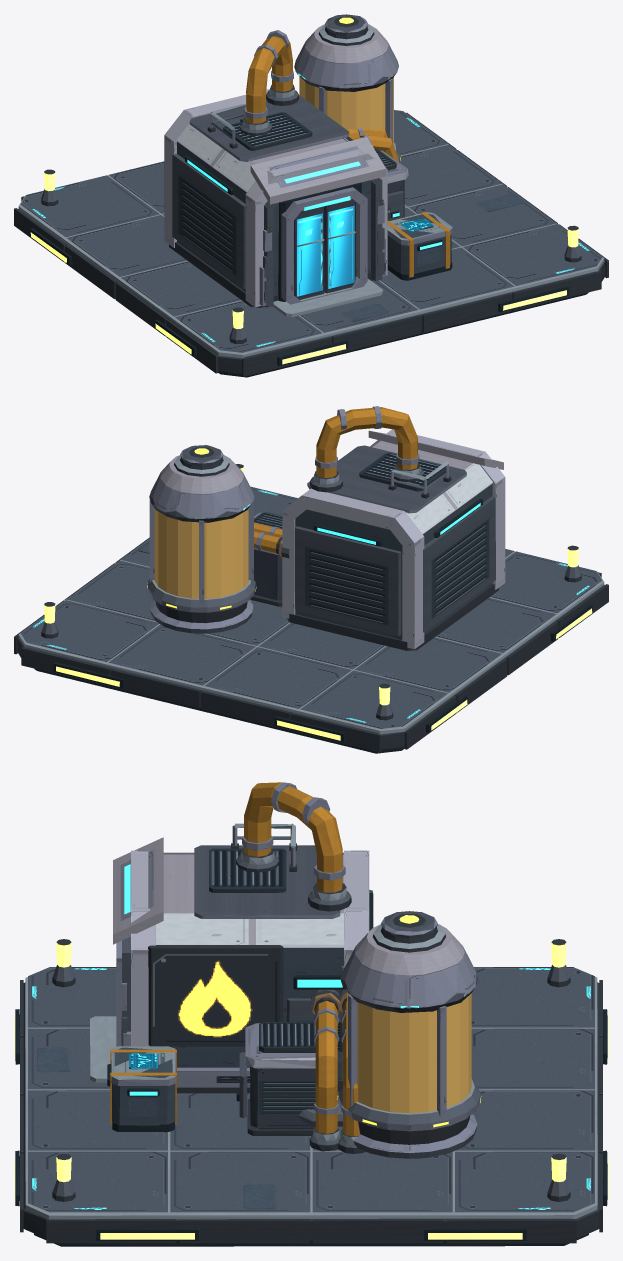
The model's file is RF01_RefineriaBasica_Distancia.fbx.
3 renders of one model, top to bottom at view 1: azimuth 30°, elevation 25°; view 2: azimuth 150°, elevation 25°; view 3: azimuth 270°, elevation 25°, orthographic. The views are drawn at different scales.
Visible parts, largest first — view 1: EstructuraDistante_1, CristalYCombustibleDistantes_1; view 2: EstructuraDistante_1, CristalYCombustibleDistantes_1; view 3: EstructuraDistante_1, CristalYCombustibleDistantes_1.
Part boxes in pixels (x1,y1,x2,y2): EstructuraDistante_1: (14,14,608,377); CristalYCombustibleDistantes_1: (299,76,393,145); EstructuraDistante_1: (14,406,608,753); CristalYCombustibleDistantes_1: (154,508,248,598); EstructuraDistante_1: (14,782,608,1246); CristalYCombustibleDistantes_1: (347,992,471,1113).
Size of the model in its own units: 5.65 by 3.17 by 5.53.
